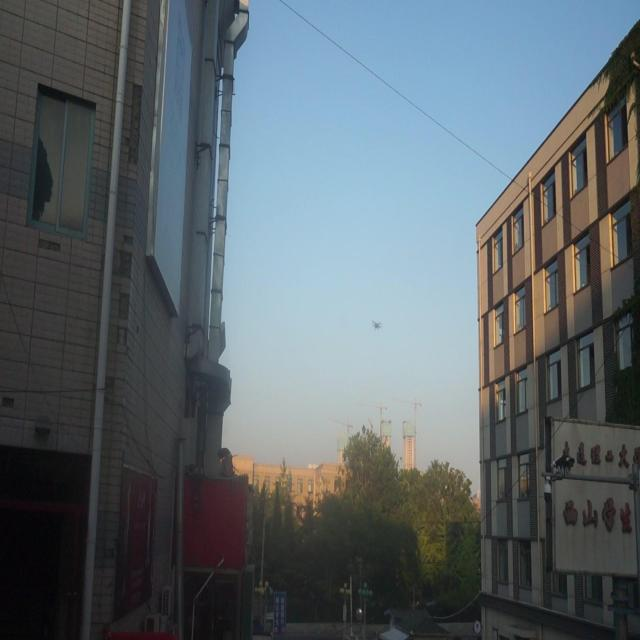drone: (369, 316, 384, 334)
